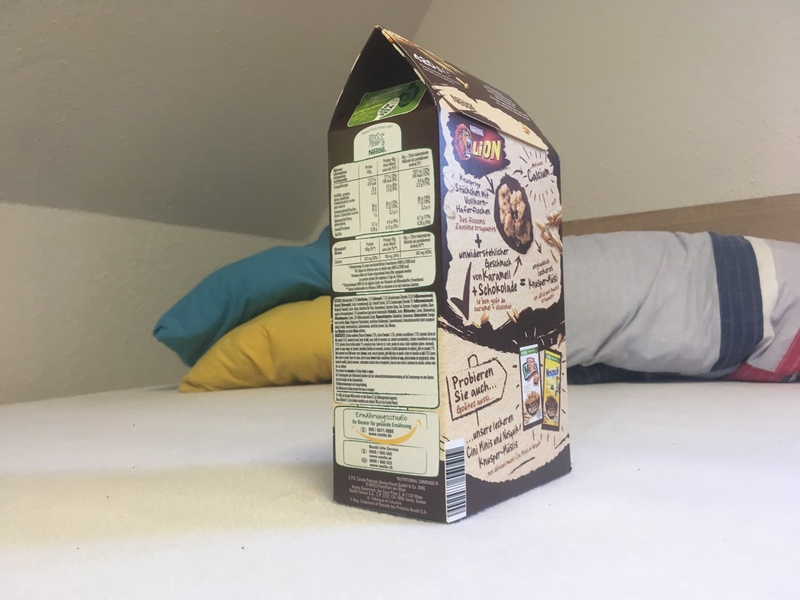cereals: (327, 26, 573, 524)
